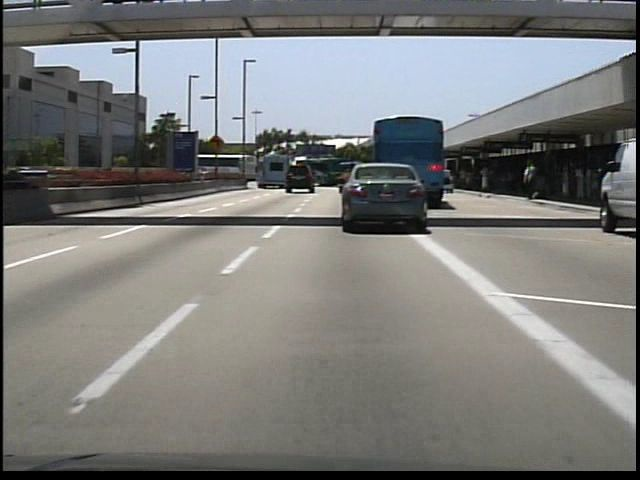person: (521, 158, 539, 203)
